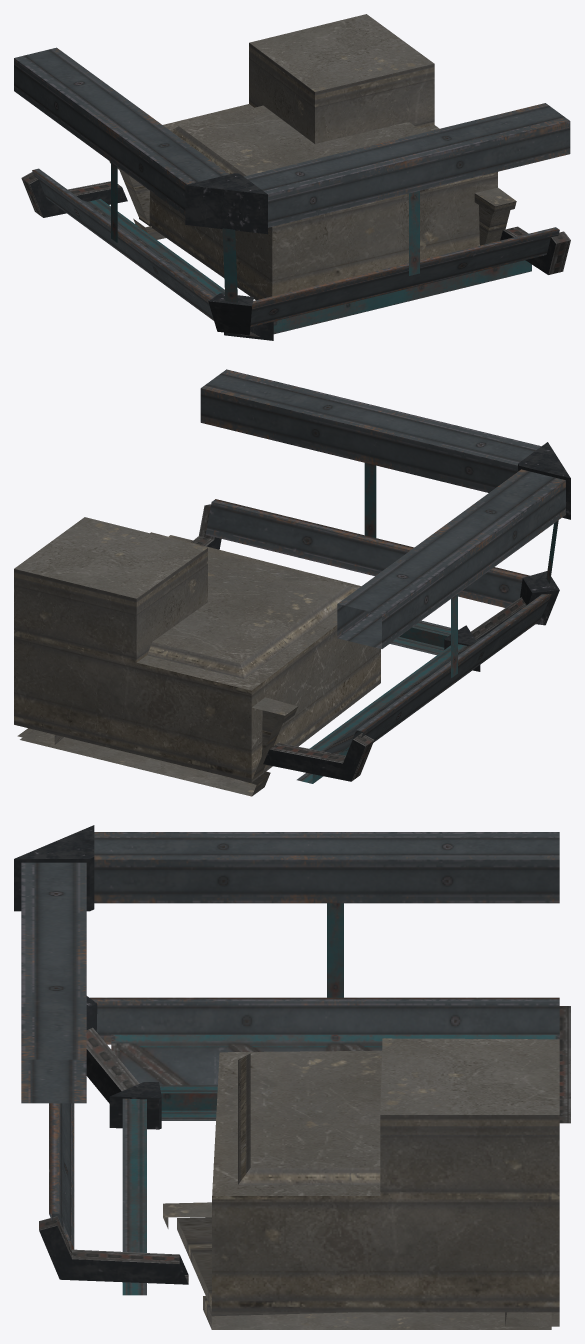
Rendered from ARC0910067.fbx.
3 renders of one model, top to bottom at view 1: azimuth 30°, elevation 25°; view 2: azimuth 150°, elevation 25°; view 3: azimuth 270°, elevation 25°, orthographic. The views are drawn at different scales.
Visible parts, largest first — view 1: smARC0910067; view 2: smARC0910067; view 3: smARC0910067.
Part boxes in pixels (x1,y1,x2,y2): smARC0910067: (14,14,570,340); smARC0910067: (14,369,570,796); smARC0910067: (14,825,570,1329).
Bounding box in the file's own units: 124 × 67.51 × 124.
Materials: 1 (1 with a texture image).
